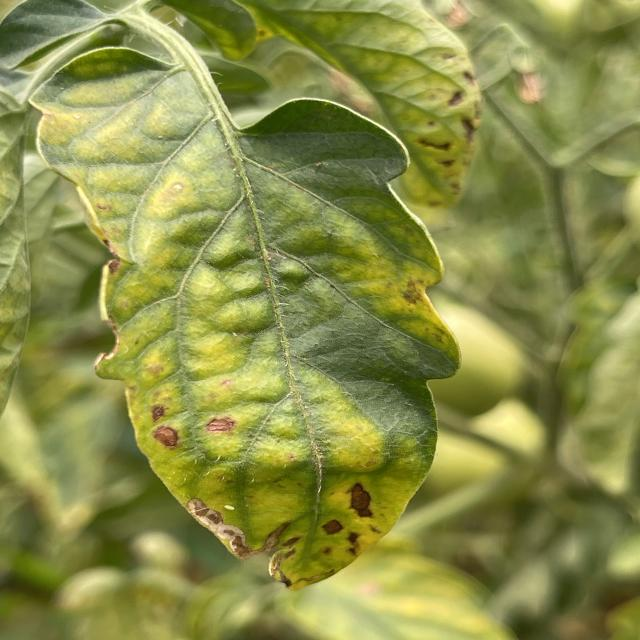tomato_early blight: (29, 41, 459, 589), (254, 0, 483, 213)
